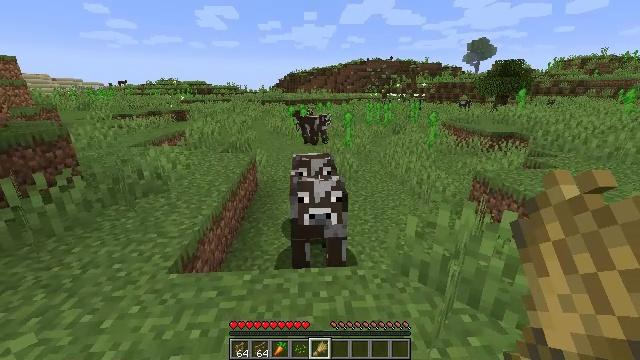cow: (289, 177, 345, 266), (290, 154, 339, 177), (299, 113, 329, 141), (458, 100, 472, 110)
